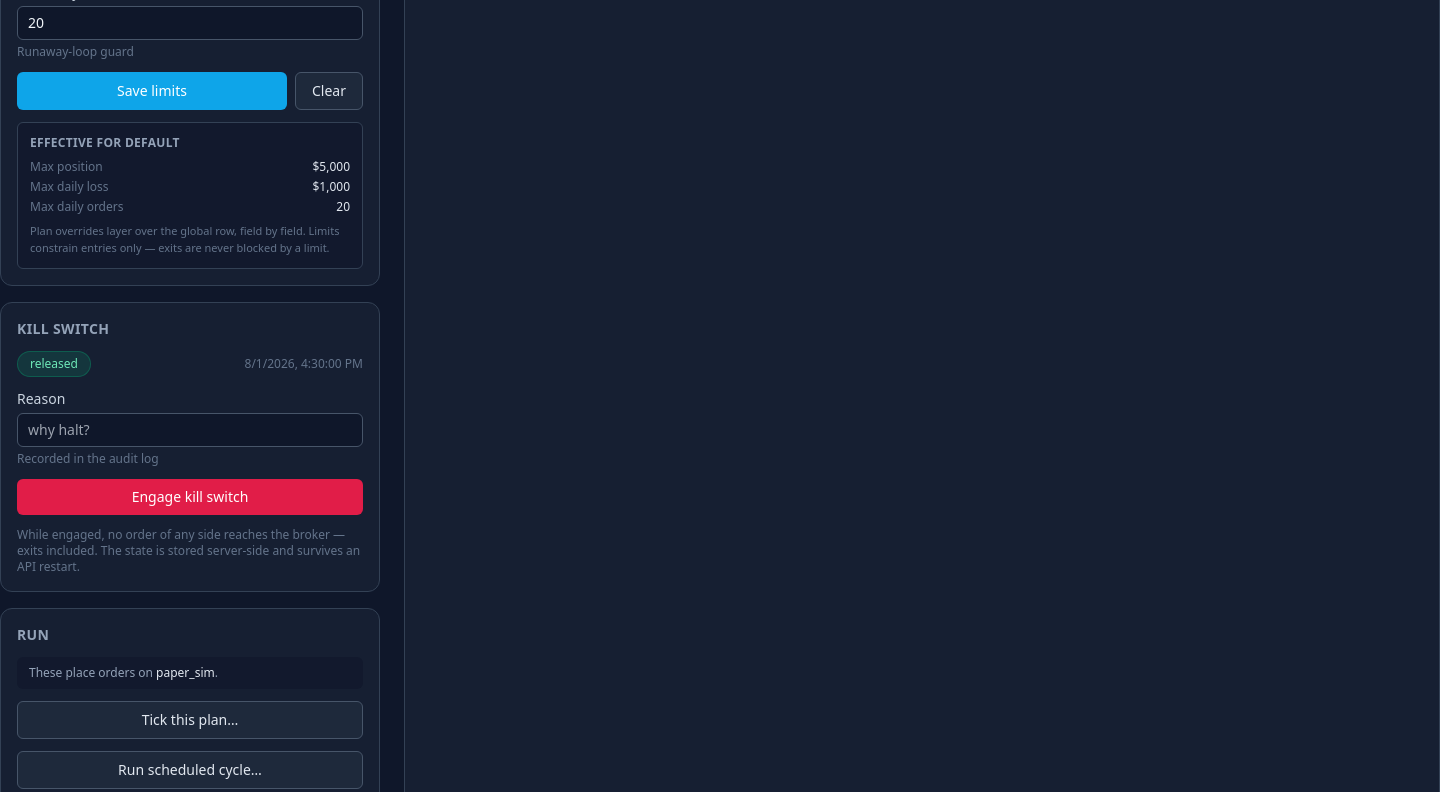
TradingConsole › surfaces a failed action without wiping the loaded state
(page scrolled)
Step 1. Click the button "Engage kill switch" → (190, 497), box [17, 479, 363, 515]
(page scrolled)
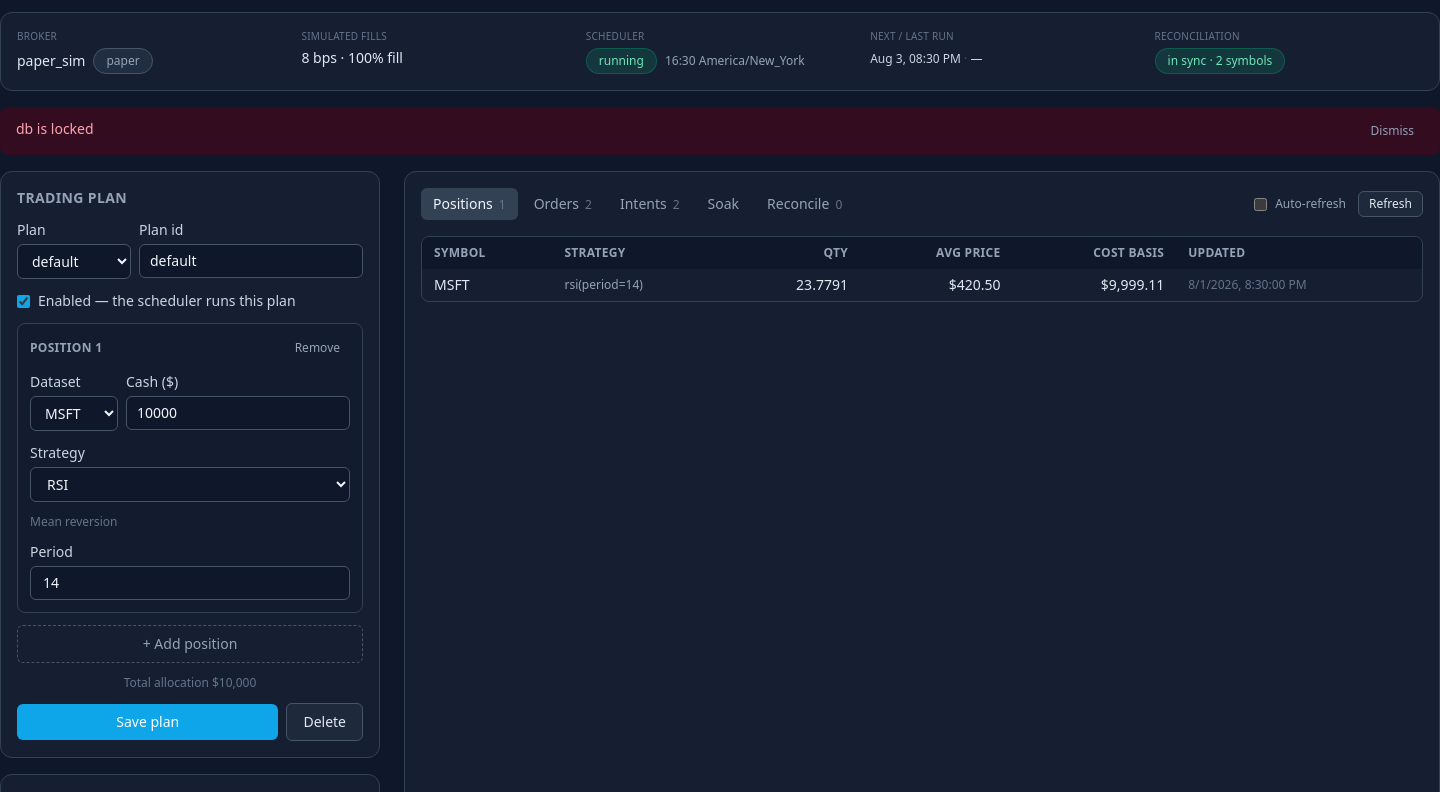
Expected: the text "paper_sim" is shown, [17, 51, 85, 71]
Now the text "db is locked" is shown, box [16, 119, 94, 139]
